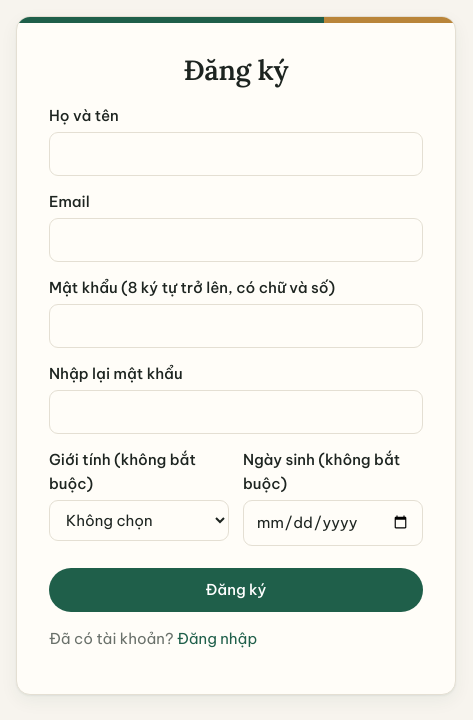
Test: RegisterPage › mật khẩu nhập lại không khớp thì không gửi
Type " Khách Mới " into the field labelled "Họ và tên" at [236, 154], box [49,132,423,176]
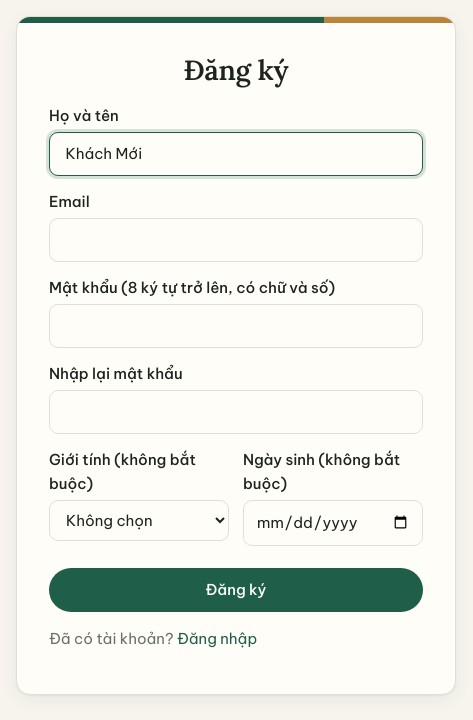
Type "moi@example.com" into the field labelled "Email" at [236, 240], box [49,218,423,262]
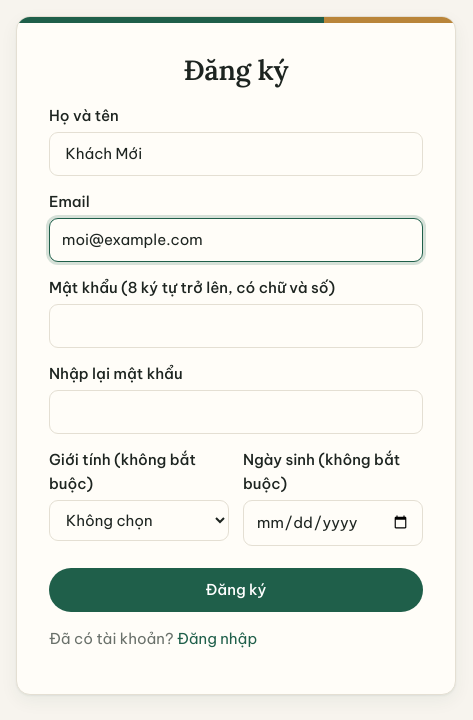
Type "MatKhau123" into the password field labelled "Mật khẩu (8 ký tự trở lên, có chữ và số)" at [236, 326], box [49,304,423,348]
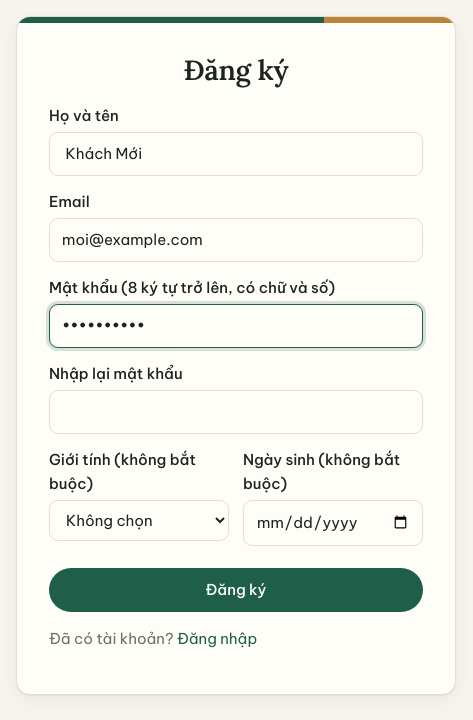
Type "KhacNhau1" into the password field labelled "Nhập lại mật khẩu" at [236, 412], box [49,390,423,434]
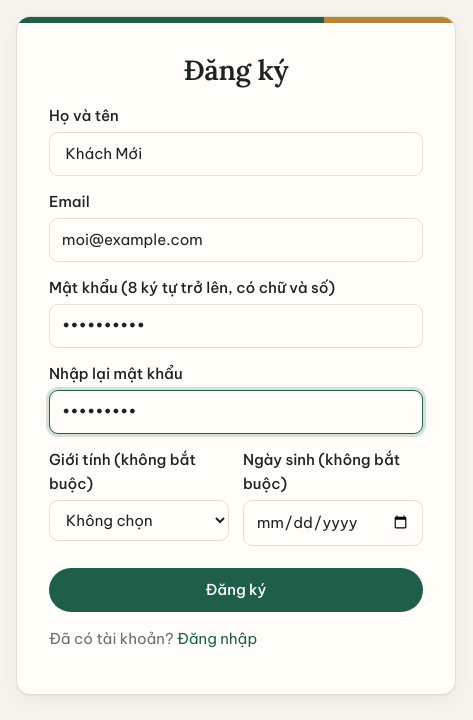
Click the button "Đăng ký" at [236, 590], box [49,568,423,612]
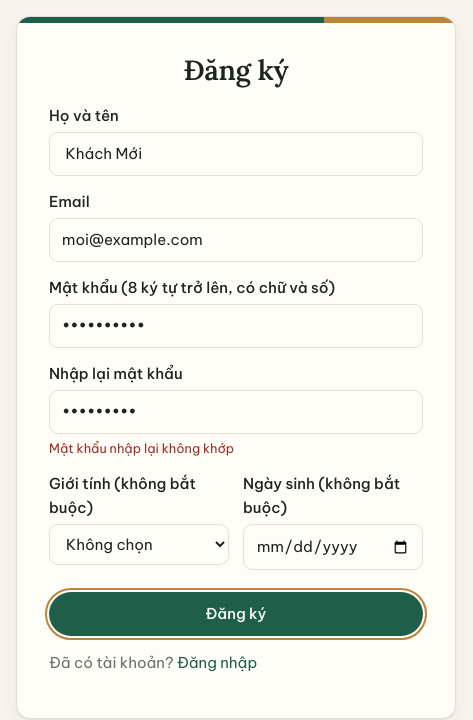
Expected: the text "Mật khẩu nhập lại không khớp" is shown, [49,440,234,456]
